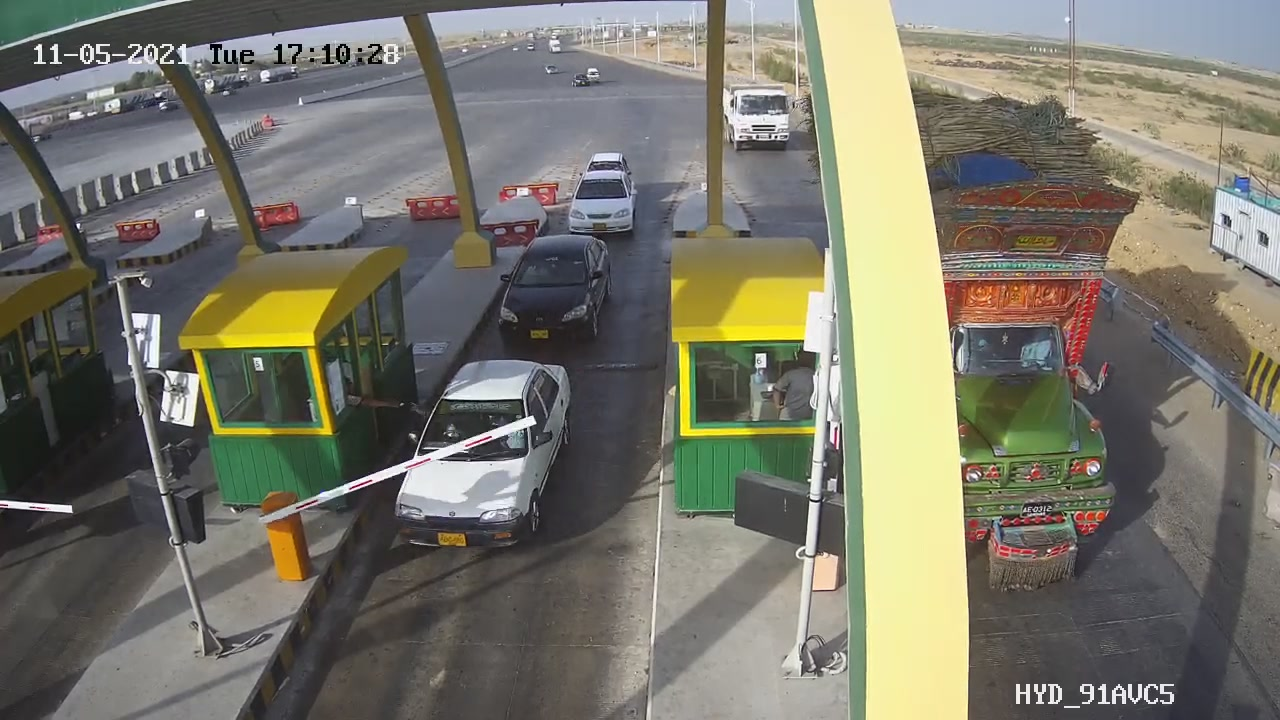F1: (374, 349, 592, 579), (482, 222, 646, 373), (551, 166, 648, 251)
